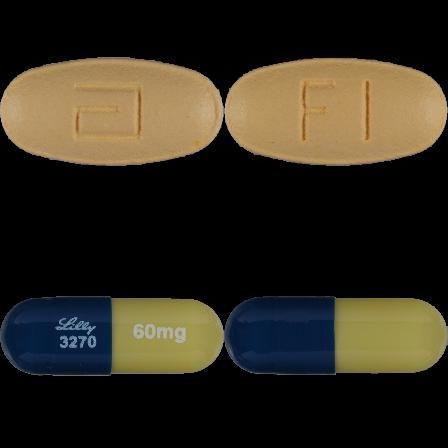68151-4718: (0, 0, 224, 224)
